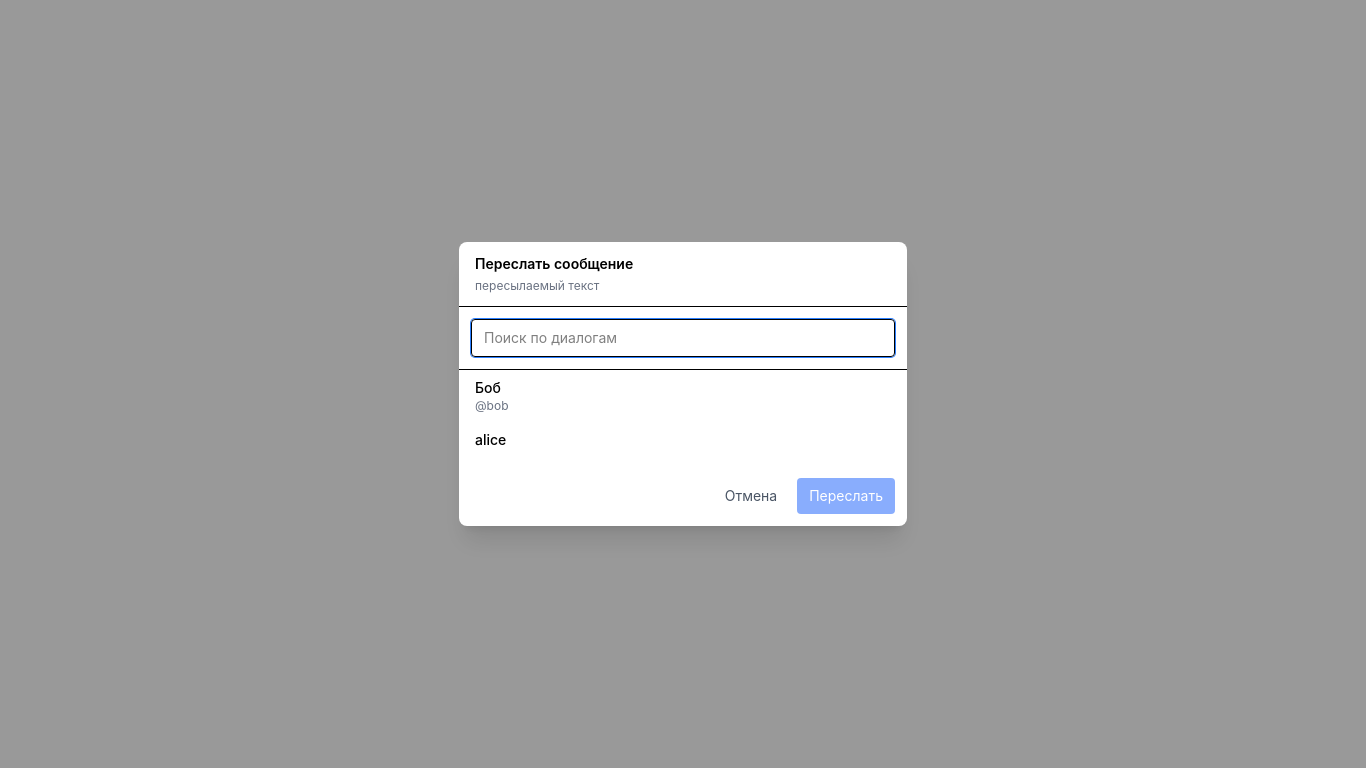
Test case: ForwardModal › поиск фильтрует по имени и по username
Type "бо" into the field labelled "Поиск по диалогам" at (683, 338), box top-left (471, 319), bottom-right (895, 357)
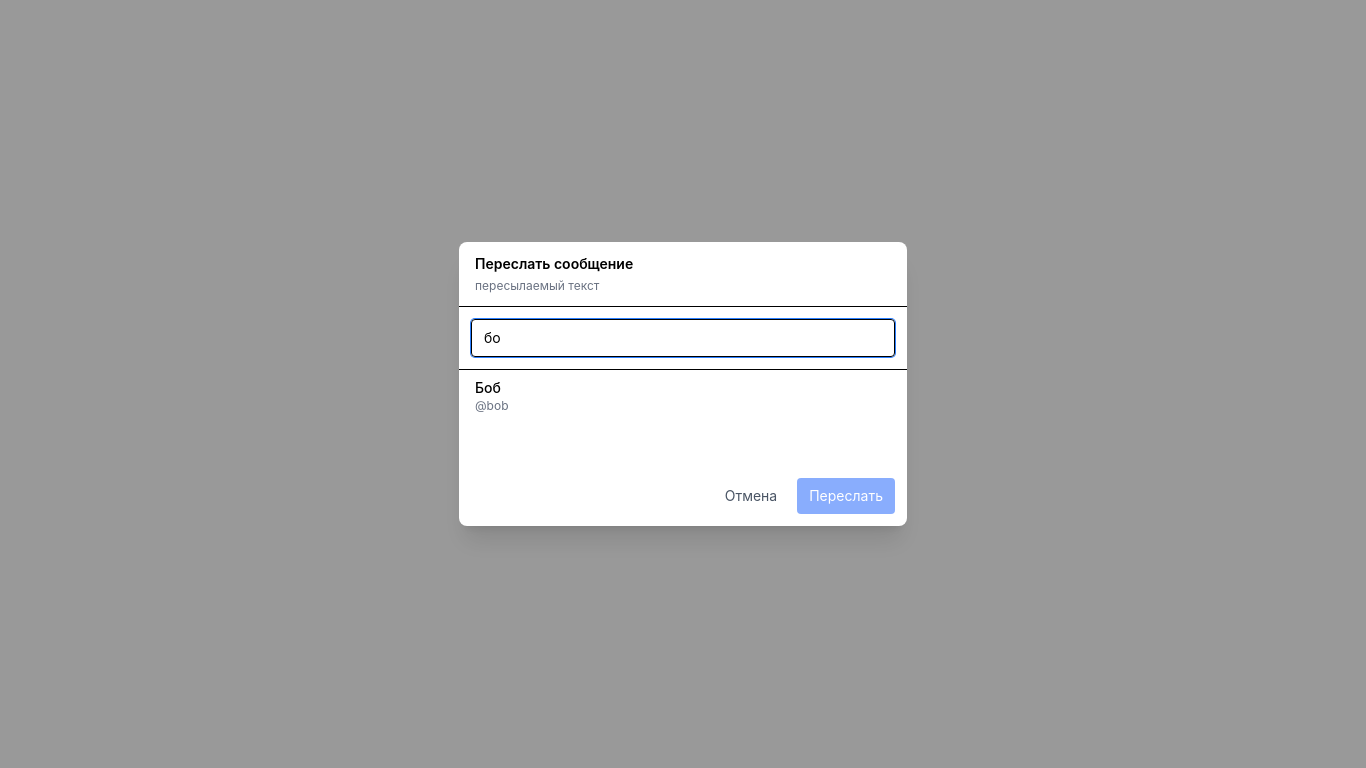
expect the radio button labelled "Боб @bob" is shown: met, box top-left (459, 370), bottom-right (907, 422)
expect the radio button labelled "alice" is gone: met
Replace the text in the field named "Поиск по диалогам" with "ALI" at (683, 338), box top-left (471, 319), bottom-right (895, 357)
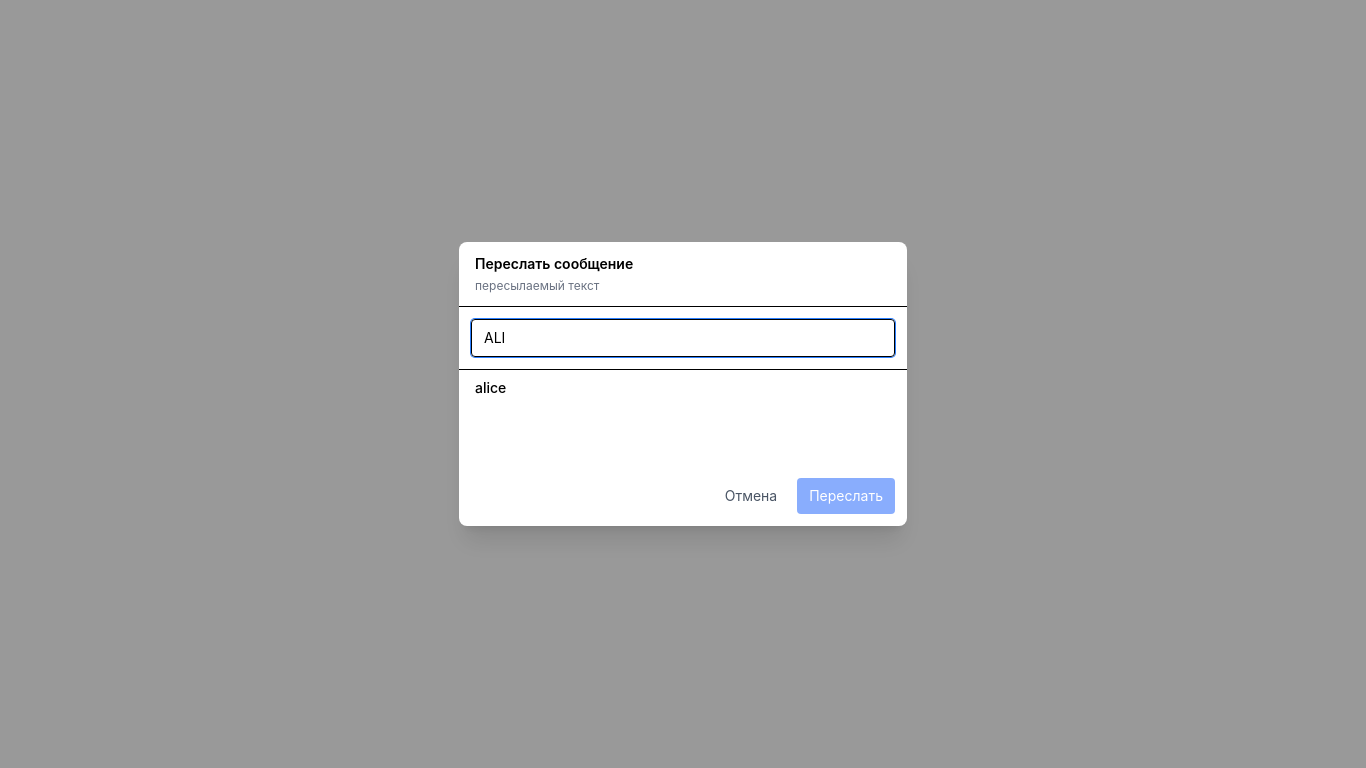
expect the radio button labelled "alice" is shown: met, box top-left (459, 370), bottom-right (907, 406)
expect the radio button labelled "Боб" is gone: met
